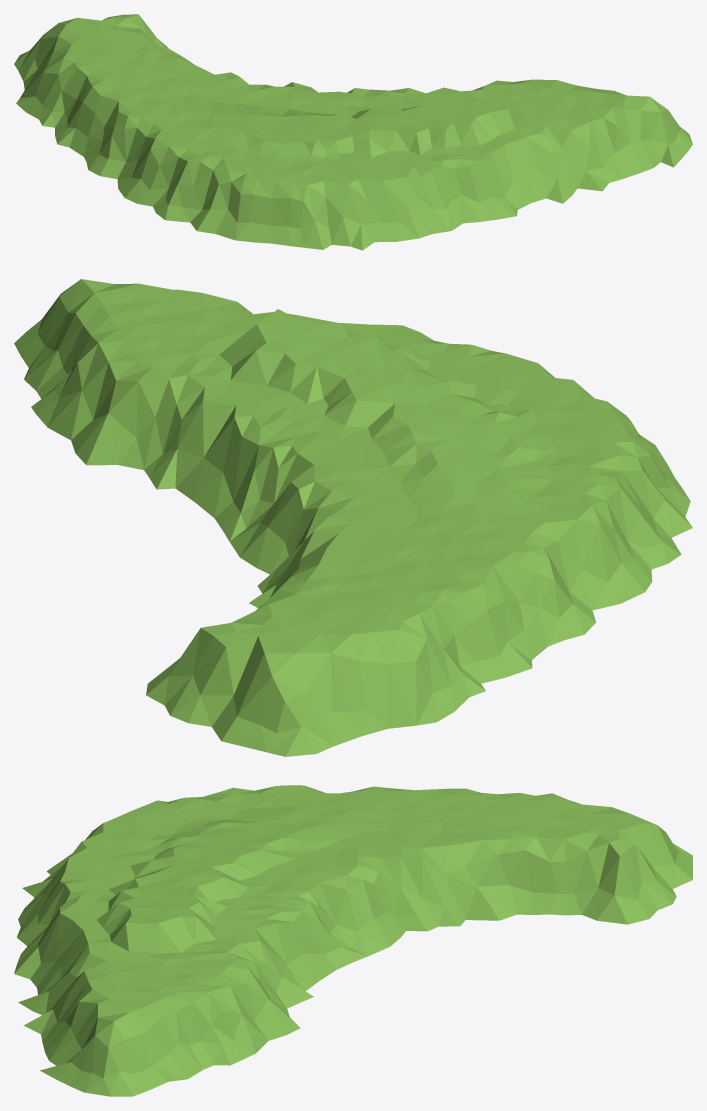
Rendered from MT_Island_L_b_02.fbx.
3 renders of one model, top to bottom at view 1: azimuth 30°, elevation 25°; view 2: azimuth 150°, elevation 25°; view 3: azimuth 270°, elevation 25°, orthographic. The views are drawn at different scales.
Parts seen in each view (by area): view 1: MT_Island_L_b_02; view 2: MT_Island_L_b_02; view 3: MT_Island_L_b_02.
Boxes of the visible parts, x1,y1,x2,y2 form: MT_Island_L_b_02: (14, 14, 692, 250); MT_Island_L_b_02: (14, 279, 692, 756); MT_Island_L_b_02: (14, 785, 692, 1096).
Bounding box in the file's own units: 9573 × 1181 × 9805.
